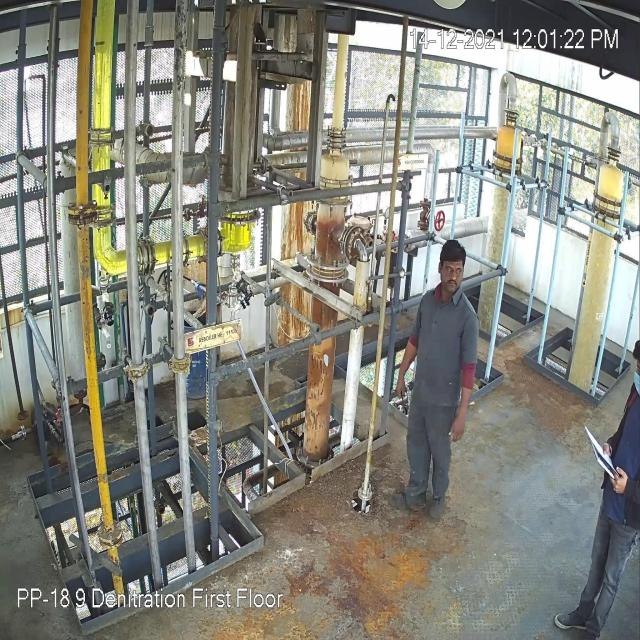No_Gloves: (26, 57, 460, 415)
